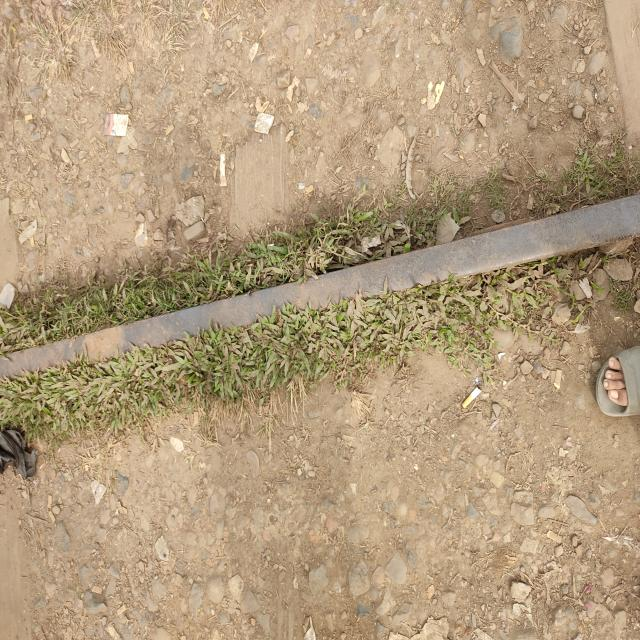non-defective: (162, 260, 423, 368)
